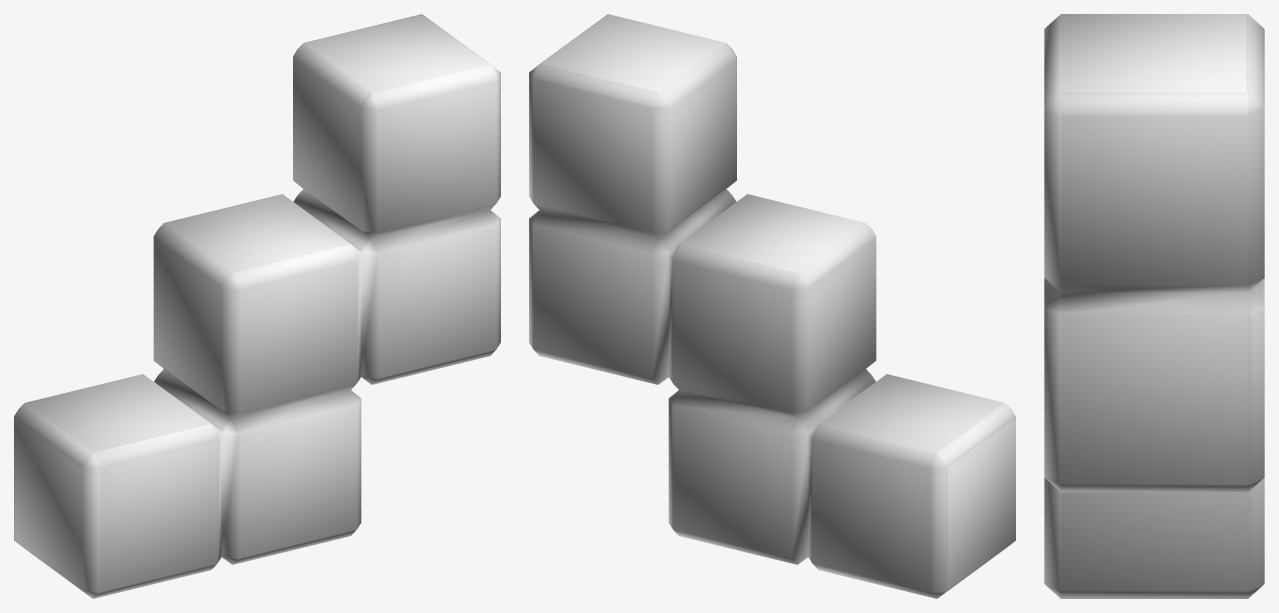
The picture shows the model from 3 angles, left to right: view 1: azimuth 30°, elevation 25°; view 2: azimuth 150°, elevation 25°; view 3: azimuth 270°, elevation 25°; orthographic projection. The views are drawn at different scales.
Visible parts, largest first — view 1: W-shape; view 2: W-shape; view 3: W-shape.
Part boxes in pixels (left/top/right/bottom): W-shape: left=14, top=14, right=500, bottom=598; W-shape: left=529, top=14, right=1015, bottom=598; W-shape: left=1044, top=14, right=1264, bottom=598.
Size of the model in its own units: 3 by 3 by 1.
